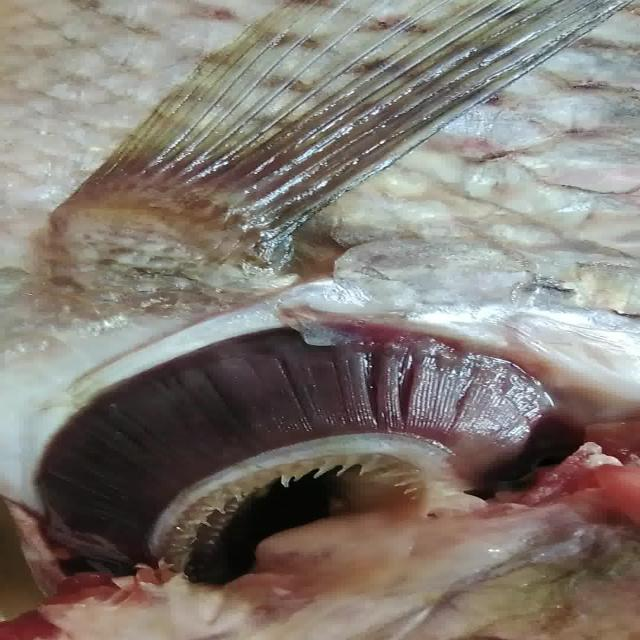Non-Fresh: (44, 312, 534, 561)
